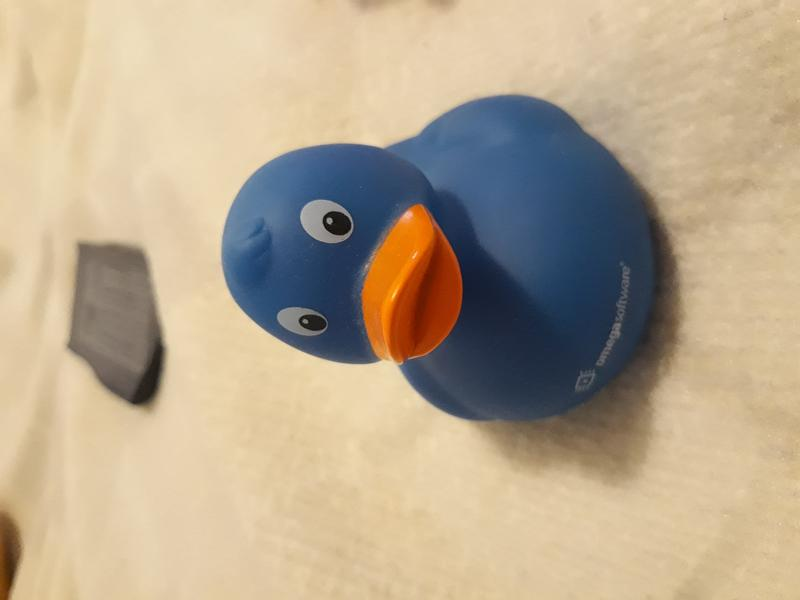plava_patkica: (218, 87, 665, 429)
